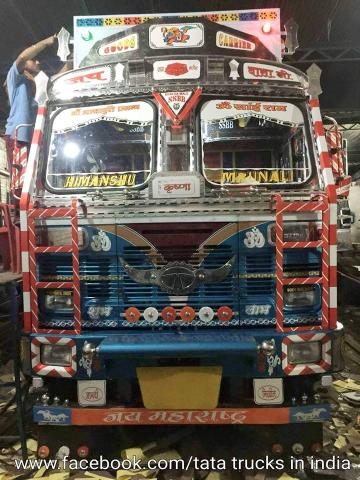truck: (16, 4, 352, 447)
